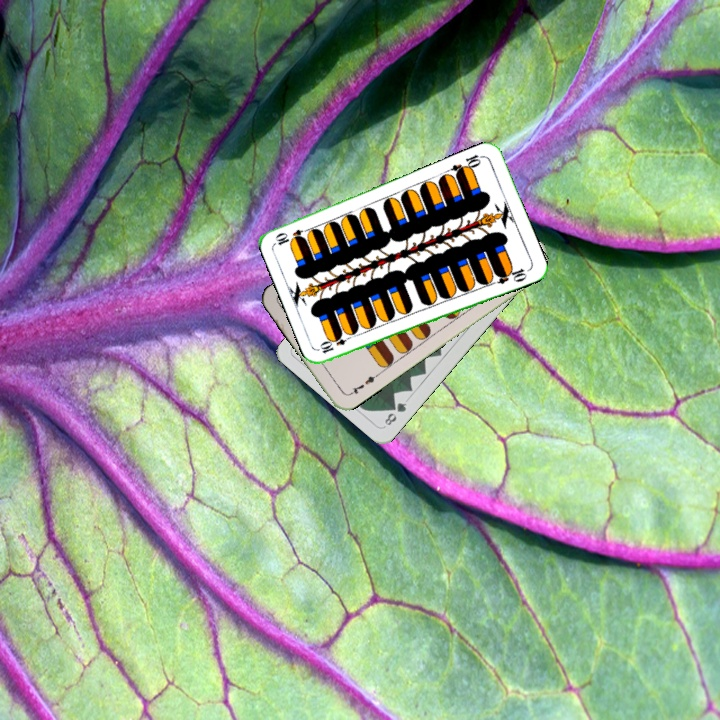E10: (447, 150, 486, 178), (316, 330, 356, 356)
E7: (344, 370, 380, 398)
G8: (380, 398, 409, 428)
